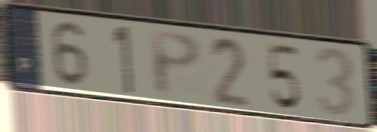1: (111, 24, 136, 96)
2: (207, 34, 255, 110)
3: (313, 46, 360, 120)
5: (265, 41, 303, 111)
6: (49, 19, 91, 89)
P: (147, 28, 205, 101)
